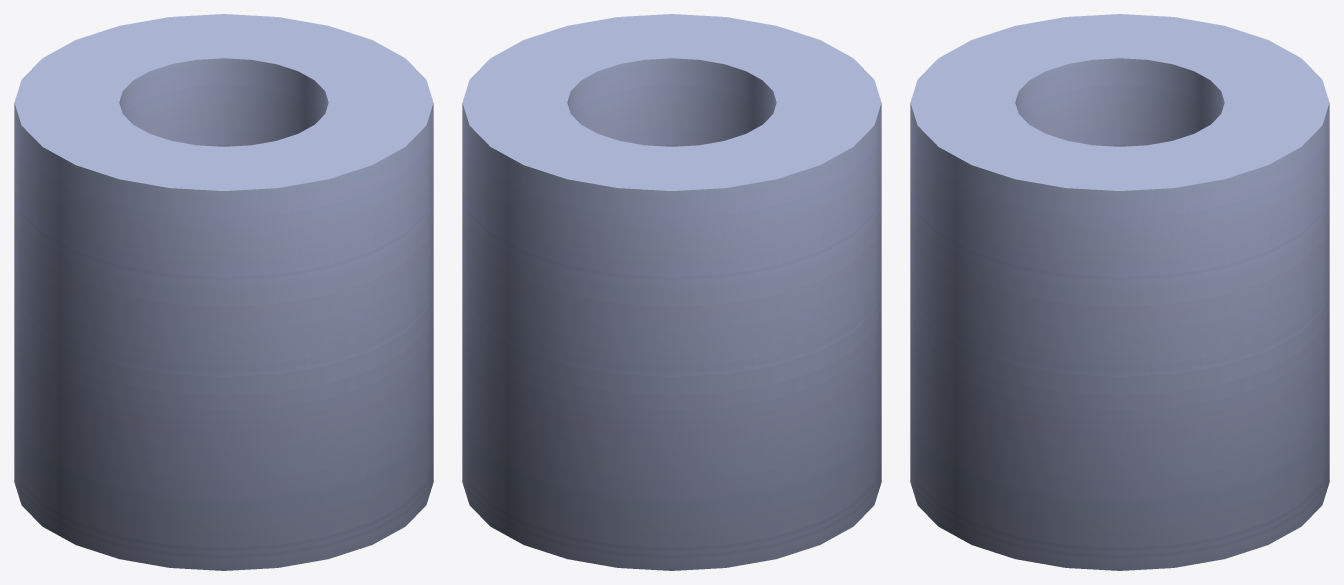
The model's file is shape-hollow-cylinder-detailed.glb.
3 renders of one model, left to right at view 1: azimuth 30°, elevation 25°; view 2: azimuth 150°, elevation 25°; view 3: azimuth 270°, elevation 25°, orthographic.
Parts seen in each view (by area): view 1: shape-hollow-cylinder-detailed; view 2: shape-hollow-cylinder-detailed; view 3: shape-hollow-cylinder-detailed.
Part boxes in pixels (x1,y1,x2,y2): shape-hollow-cylinder-detailed: (14,14,433,570); shape-hollow-cylinder-detailed: (462,14,881,570); shape-hollow-cylinder-detailed: (910,14,1329,570).
Size of the model in its own units: 1 by 1 by 1.
1 material, 1 textured.
